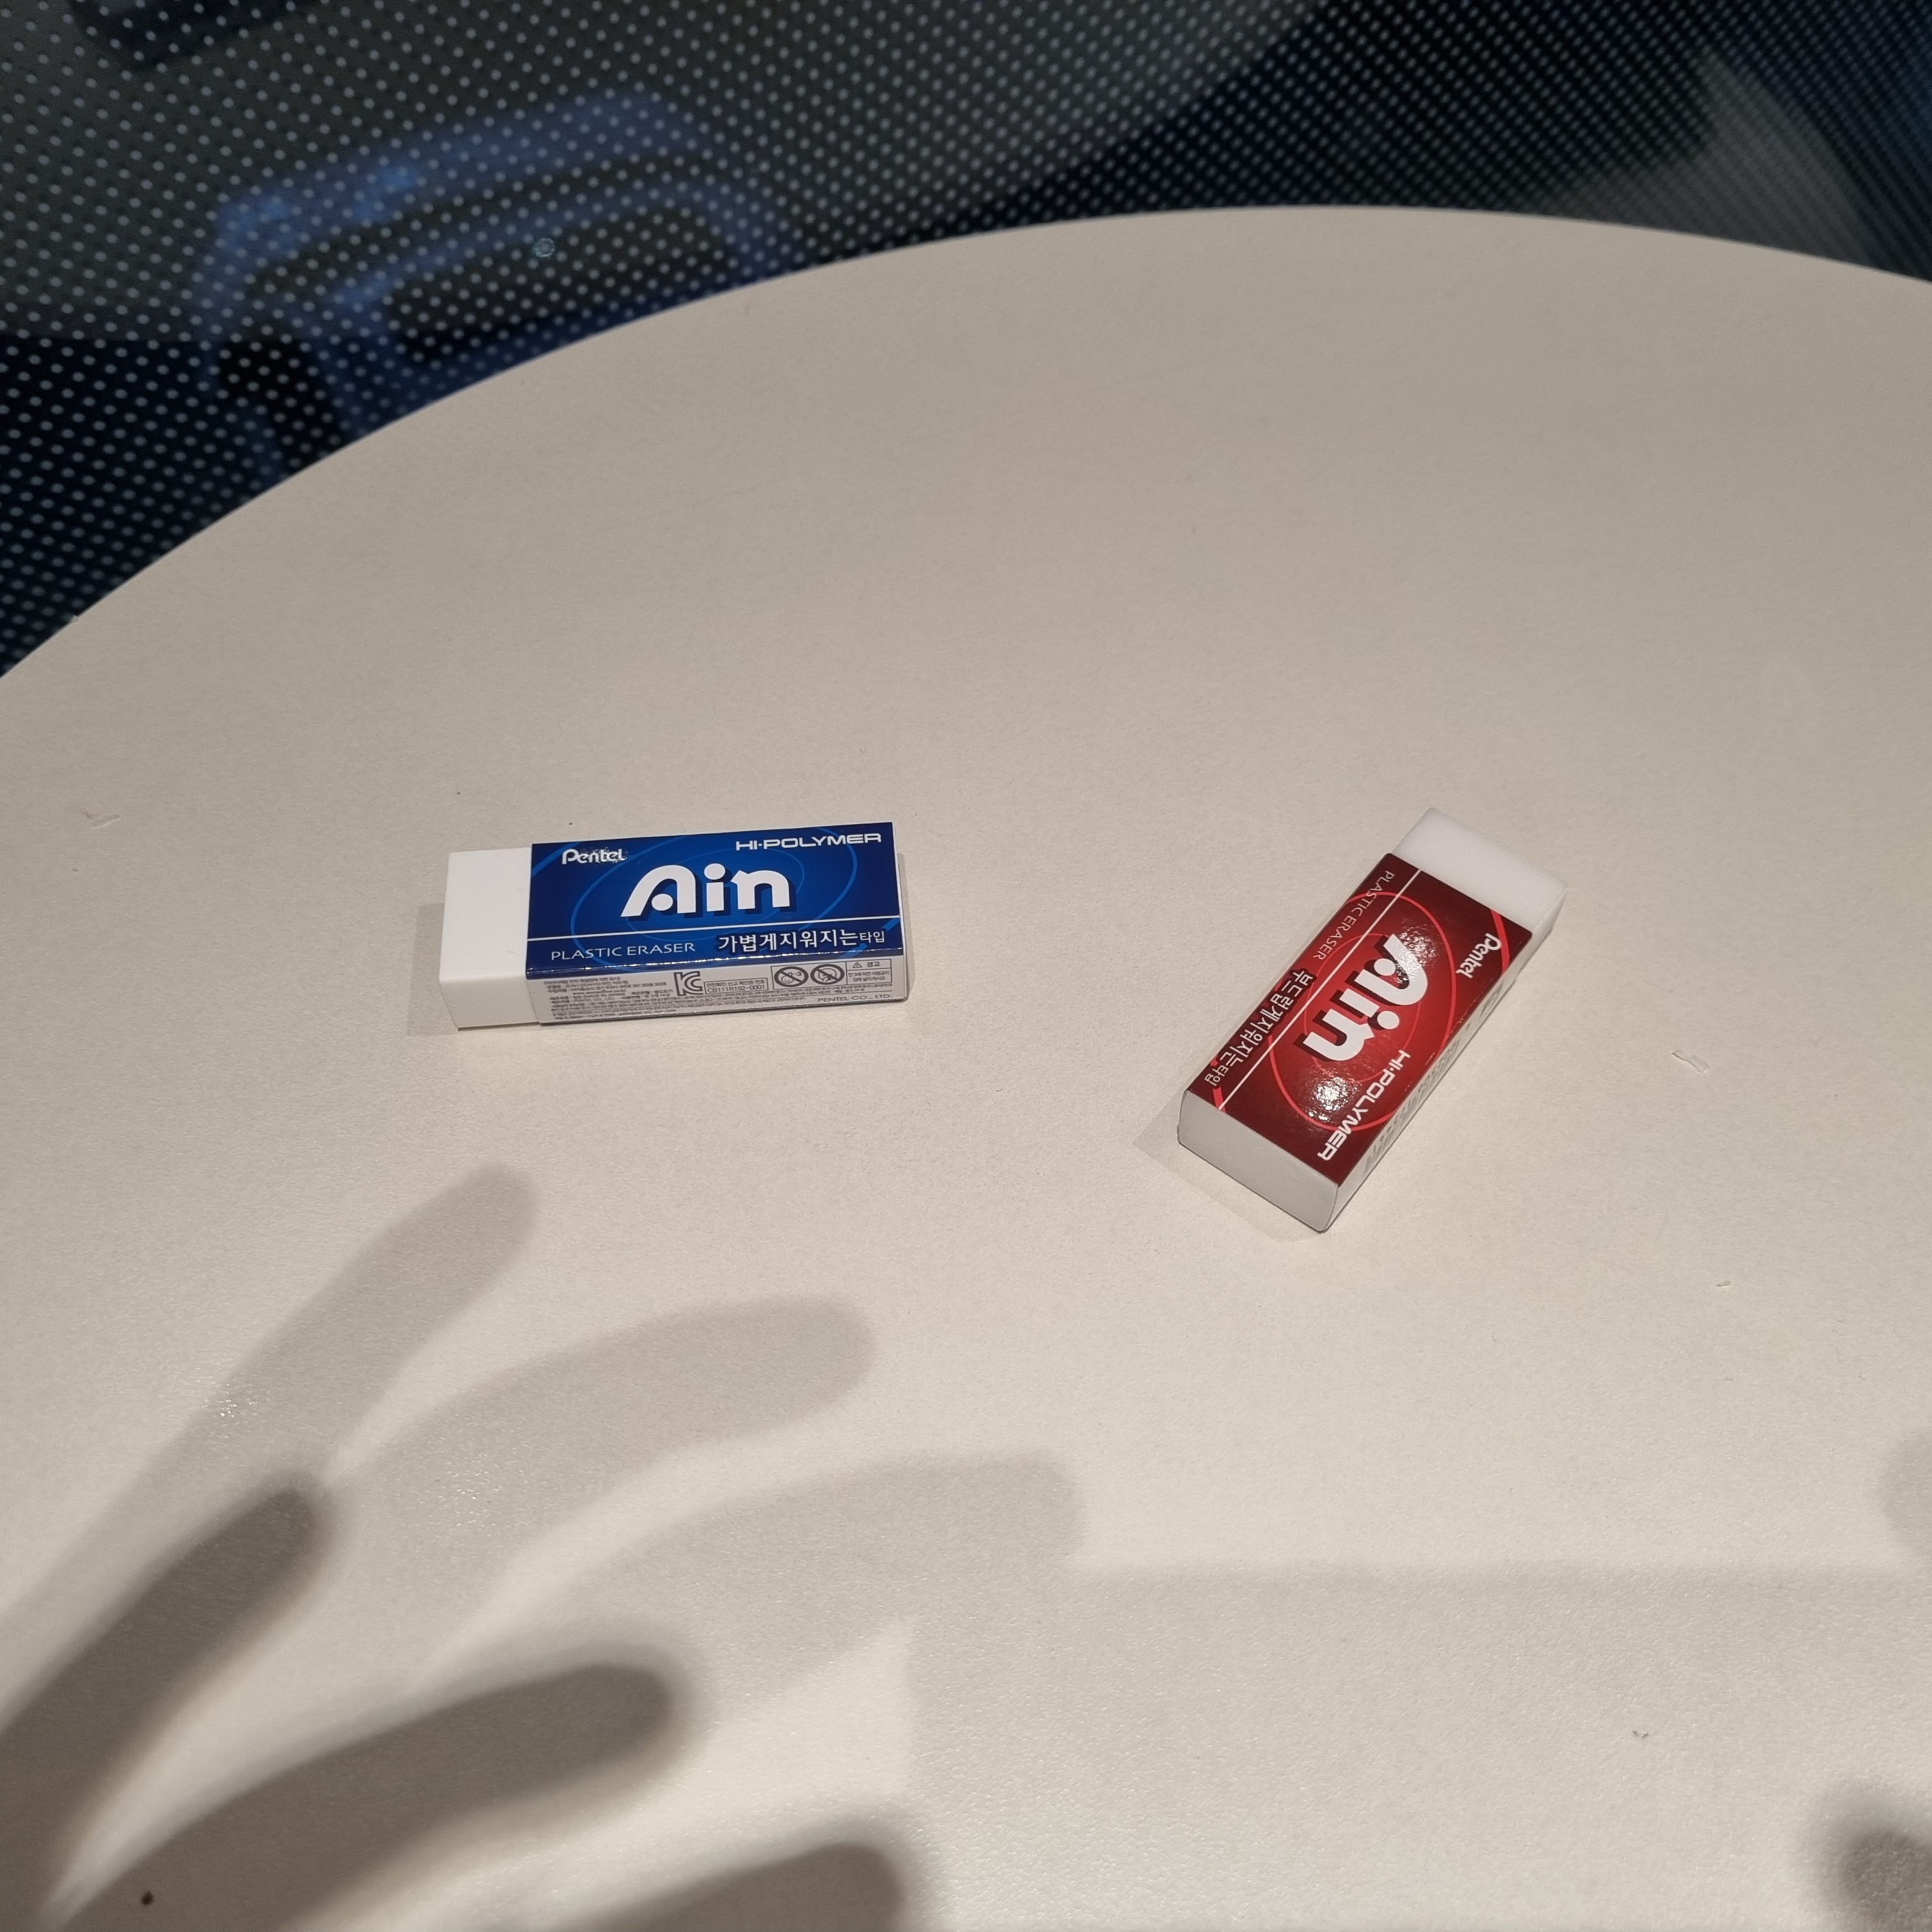blue: (426, 807, 920, 1035)
red: (1171, 805, 1585, 1244)
